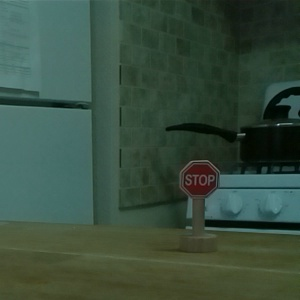stop sign: (176, 158, 221, 255)
